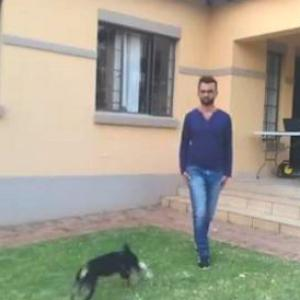follow: (172, 77, 230, 255)
